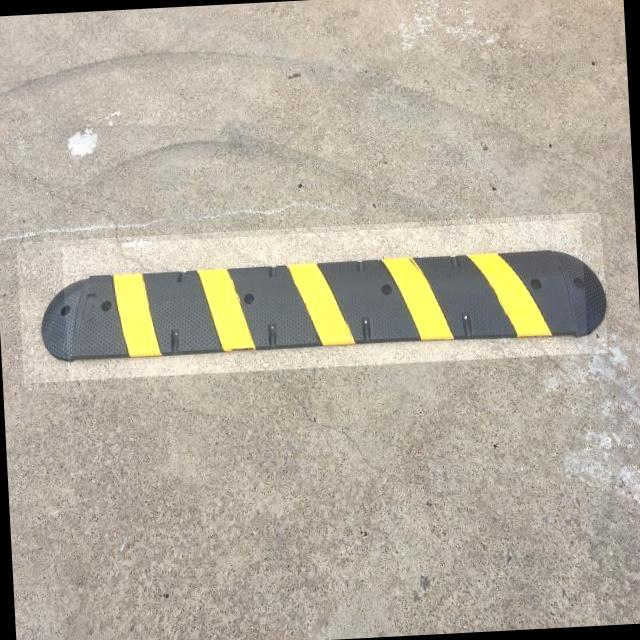bump: (62, 219, 588, 380)
